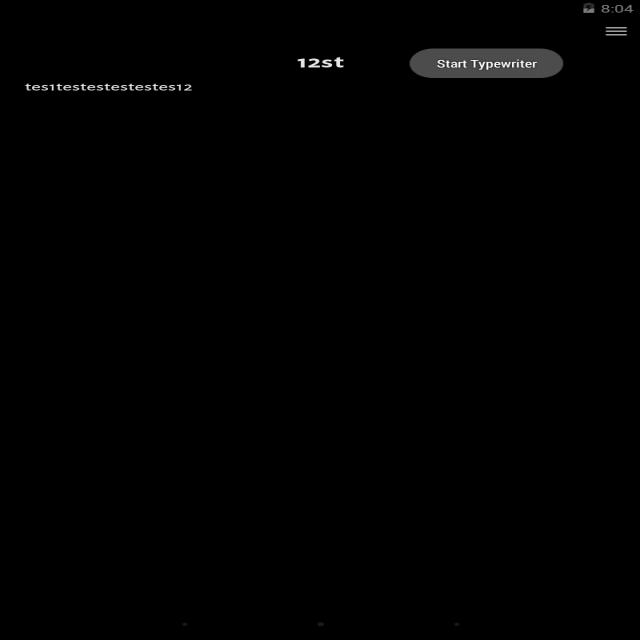Button: (403, 47, 569, 81)
ImageButton: (599, 22, 632, 42)
TextView: (22, 80, 199, 98), (293, 54, 350, 72)
